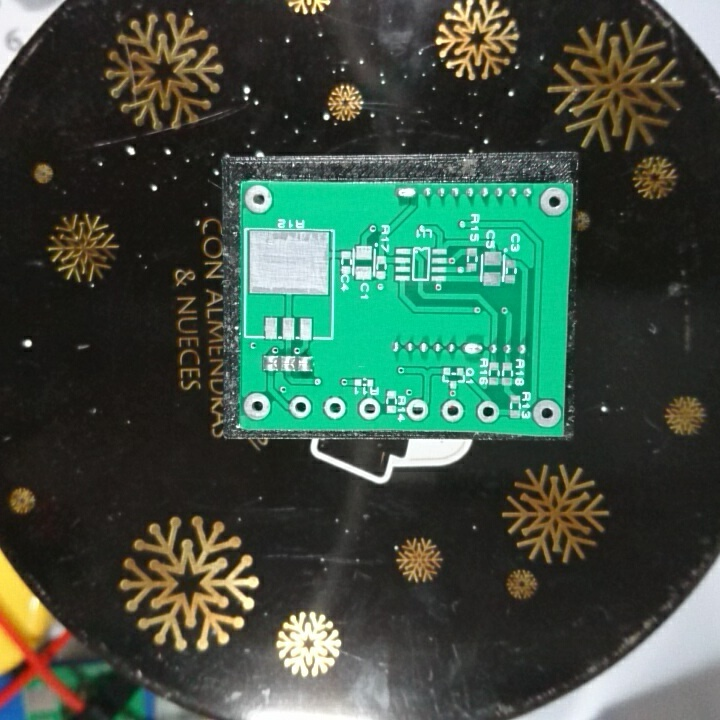F: (242, 183, 276, 217), (531, 398, 562, 432), (538, 186, 569, 218), (243, 390, 272, 423), (439, 396, 466, 425), (404, 397, 431, 424), (287, 394, 313, 422), (321, 395, 348, 420), (356, 395, 381, 421), (476, 399, 500, 425)
P: (461, 340, 482, 360), (393, 184, 415, 200)
